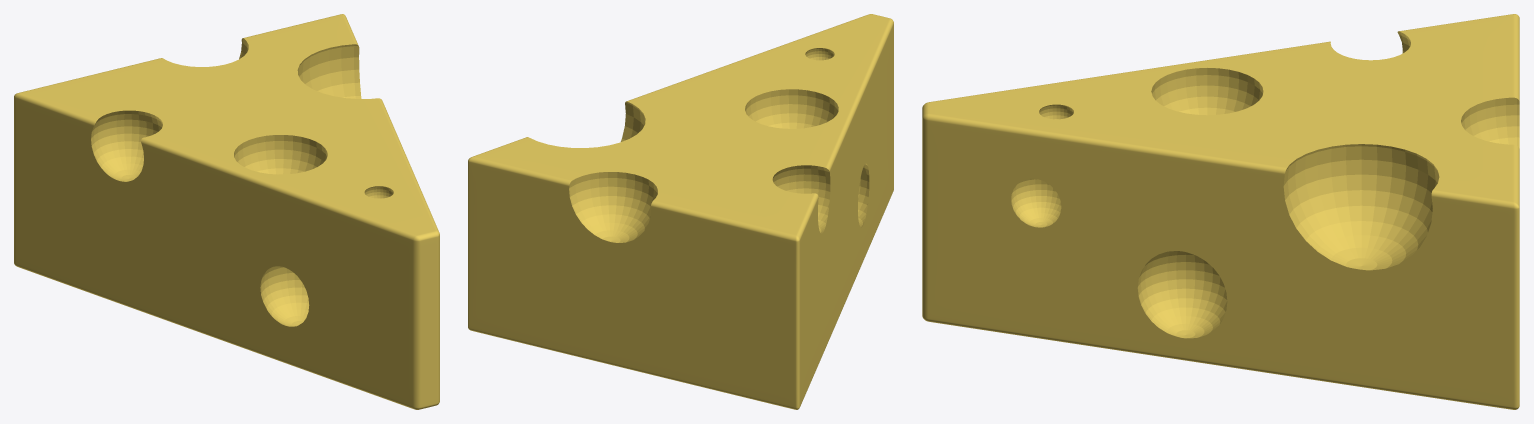
Rendered from FBXFromage.fbx.
3 renders of one model, left to right at view 1: azimuth 30°, elevation 25°; view 2: azimuth 150°, elevation 25°; view 3: azimuth 270°, elevation 25°, orthographic. The views are drawn at different scales.
Visible parts, largest first — view 1: Fromage; view 2: Fromage; view 3: Fromage.
Part boxes in pixels (x1,y1,x2,y2): Fromage: (14, 14, 439, 409); Fromage: (468, 14, 893, 409); Fromage: (922, 14, 1519, 409).
Bounding box in the file's own units: 198 × 99.81 × 260.
